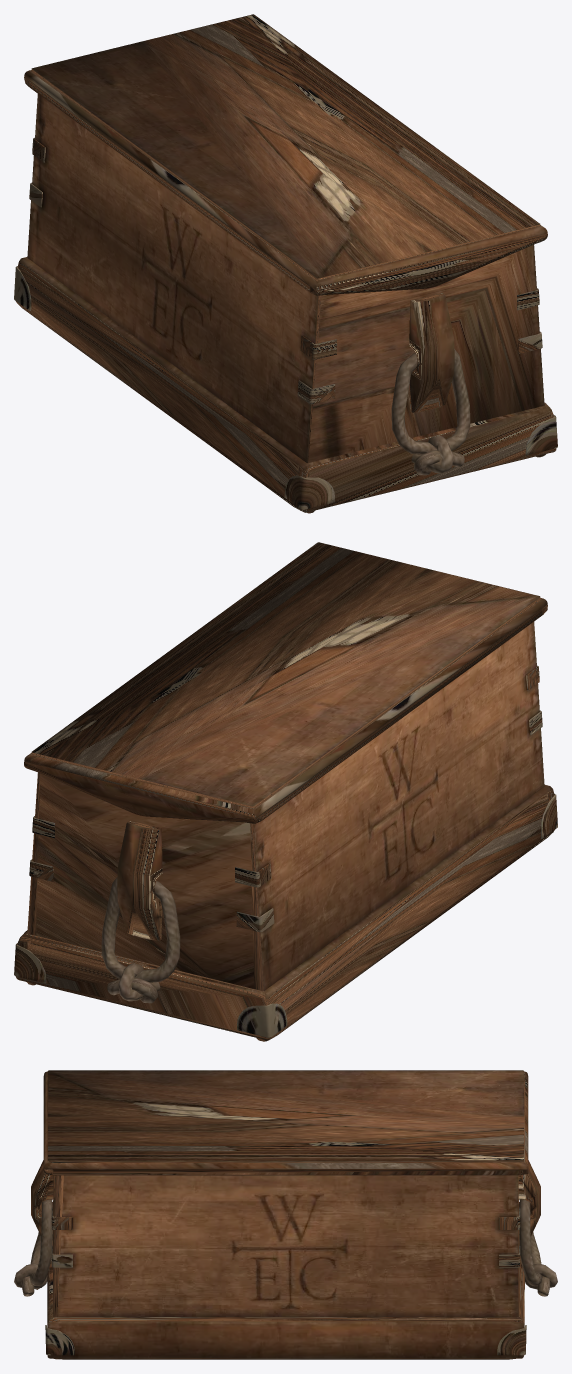
The model's file is wooden_crate_02.glb.
3 renders of one model, top to bottom at view 1: azimuth 30°, elevation 25°; view 2: azimuth 150°, elevation 25°; view 3: azimuth 270°, elevation 25°, orthographic. The views are drawn at different scales.
Visible parts, largest first — view 1: wooden_crate_02_crate, wooden_crate_02_lid; view 2: wooden_crate_02_crate, wooden_crate_02_lid; view 3: wooden_crate_02_crate, wooden_crate_02_lid.
Part boxes in pixels (x1=…): wooden_crate_02_crate: x1=14, y1=94, x2=557, y2=513; wooden_crate_02_lid: x1=24, y1=14, x2=547, y2=295; wooden_crate_02_crate: x1=14, y1=621, x2=557, y2=1041; wooden_crate_02_lid: x1=24, y1=542, x2=547, y2=823; wooden_crate_02_crate: x1=14, y1=1160, x2=557, y2=1359; wooden_crate_02_lid: x1=43, y1=1070, x2=528, y2=1175.
Bounding box in the file's own units: 0.5291 × 0.4638 × 1.17.
1 material, 1 textured.
